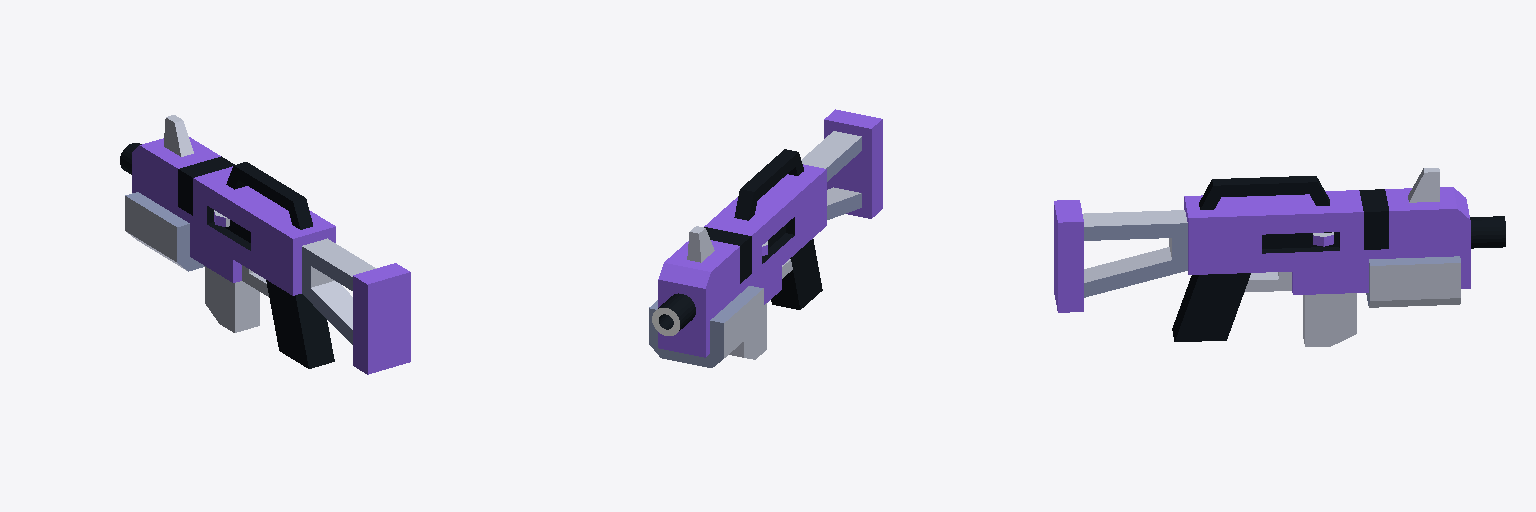
The model's file is rifle.obj.
3 views of the same model, side by side, from view 1: azimuth 30°, elevation 25°; view 2: azimuth 150°, elevation 25°; view 3: azimuth 270°, elevation 25° (orthographic).
Parts seen in each view (by area): view 1: blasterD_purple_0, blasterD_metal_0, blasterD_dark_0, blasterD_darkMetal_0; view 2: blasterD_purple_0, blasterD_dark_0, blasterD_metal_0, blasterD_darkMetal_0; view 3: blasterD_purple_0, blasterD_metal_0, blasterD_dark_0, blasterD_darkMetal_0.
Boxes of the visible parts, x1=… form: blasterD_purple_0: x1=132, y1=137, x2=410, y2=374; blasterD_metal_0: x1=125, y1=115, x2=376, y2=332; blasterD_dark_0: x1=120, y1=143, x2=334, y2=368; blasterD_darkMetal_0: x1=125, y1=192, x2=352, y2=344; blasterD_purple_0: x1=658, y1=109, x2=882, y2=357; blasterD_dark_0: x1=658, y1=149, x2=822, y2=330; blasterD_metal_0: x1=687, y1=131, x2=861, y2=359; blasterD_darkMetal_0: x1=649, y1=137, x2=861, y2=367; blasterD_purple_0: x1=1054, y1=187, x2=1470, y2=312; blasterD_metal_0: x1=1083, y1=168, x2=1460, y2=346; blasterD_dark_0: x1=1172, y1=176, x2=1505, y2=341; blasterD_darkMetal_0: x1=1084, y1=223, x2=1460, y2=305.
Size of the model in its own units: 0.1923 by 0.35 by 0.8637.